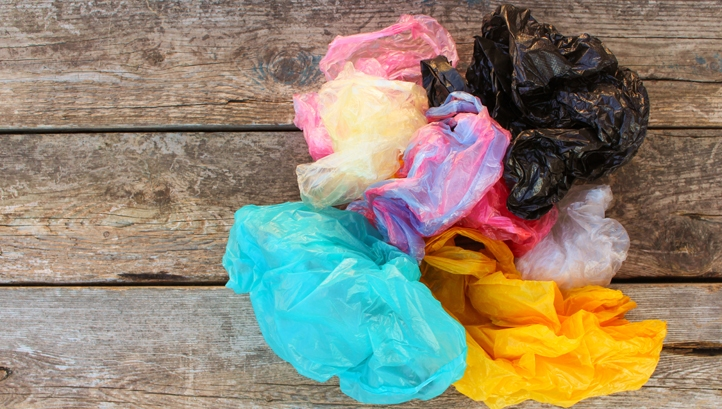plastic_bagwdw: (238, 13, 575, 273), (177, 181, 457, 409), (287, 101, 586, 306), (437, 3, 659, 247), (339, 110, 580, 334), (409, 206, 674, 409), (283, 54, 483, 243), (510, 123, 642, 362), (429, 153, 580, 321)
